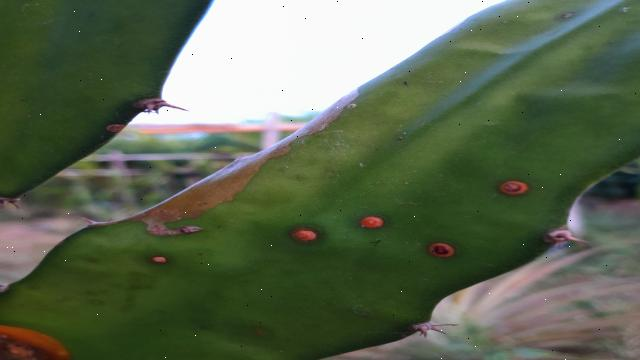stemcanker: (492, 173, 536, 204), (419, 234, 463, 265), (352, 211, 395, 242), (285, 220, 328, 251), (144, 250, 181, 271)
